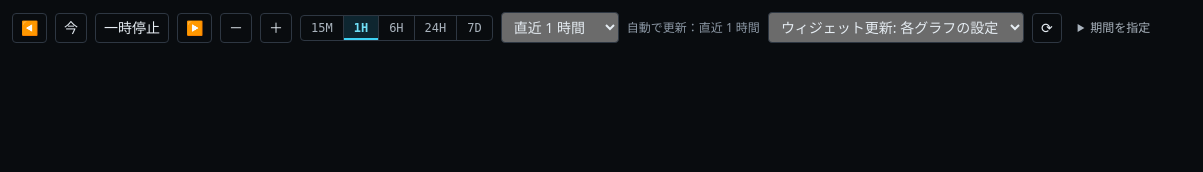
Test: TimeRangeControls › 前へを押すと、幅の分だけ過去の固定期間になる
The width and height of the screenshot is (1203, 172).
Click the button named "前へ" at (30, 28), box [12,12,47,42]
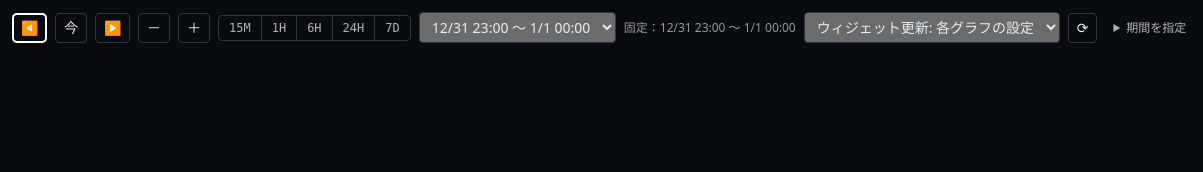
Expected: the text with test id "time-range-label" shows "固定", [624,18,648,36]
